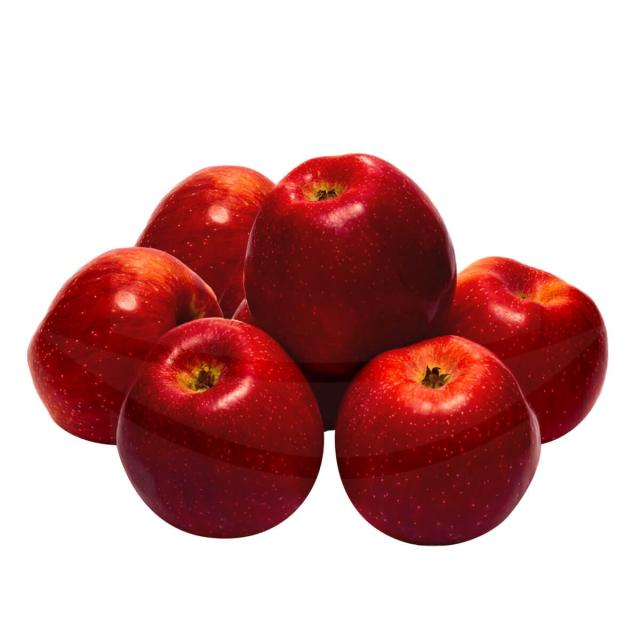manzana: (238, 144, 461, 364), (118, 310, 330, 540), (333, 328, 546, 548)
